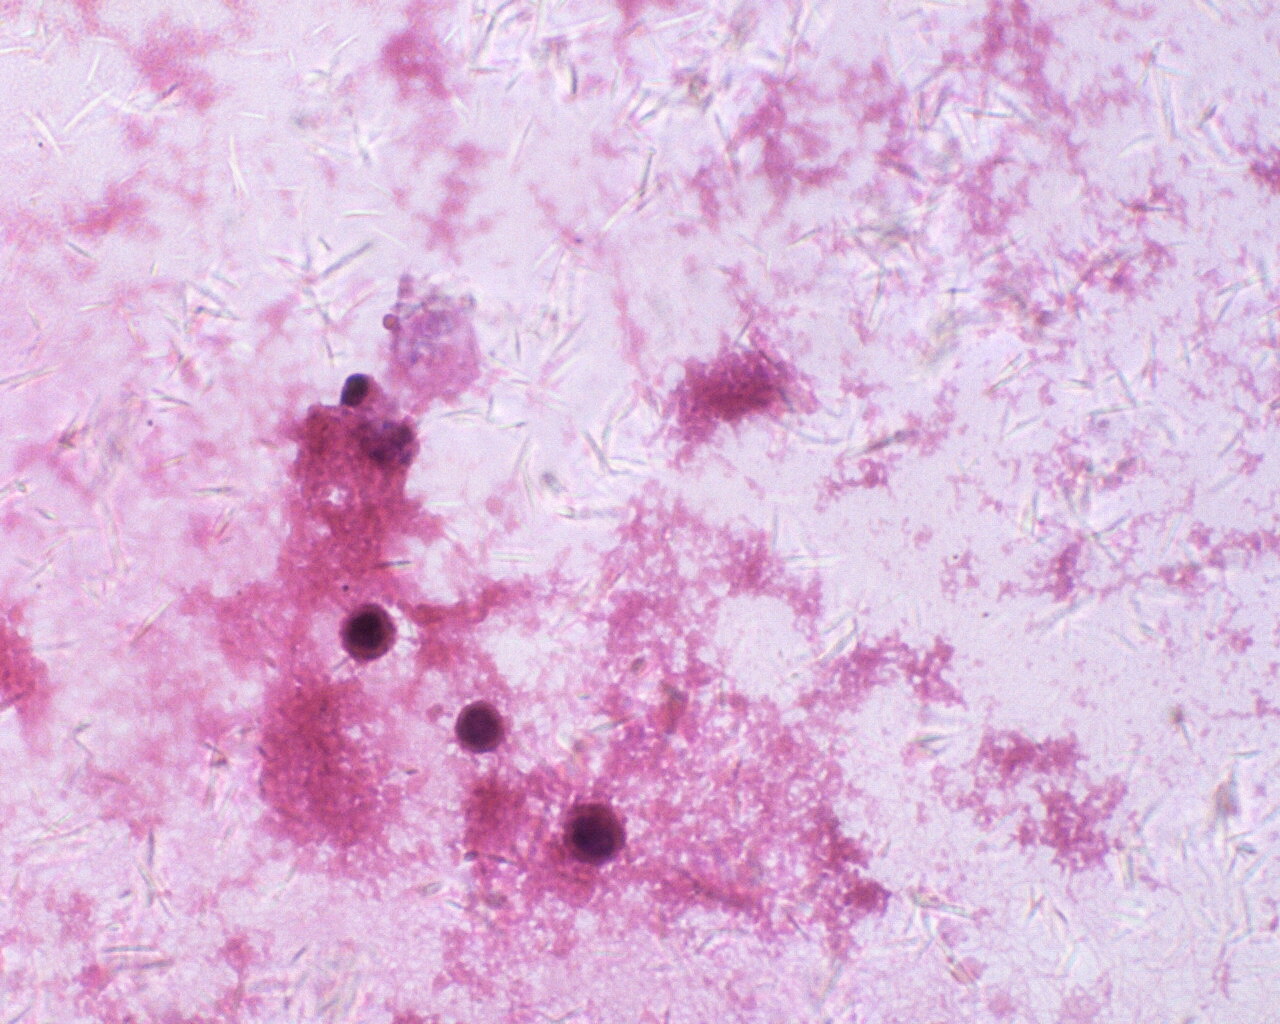ab: (559, 793, 628, 867), (451, 695, 511, 754)
meso: (338, 597, 402, 661)
